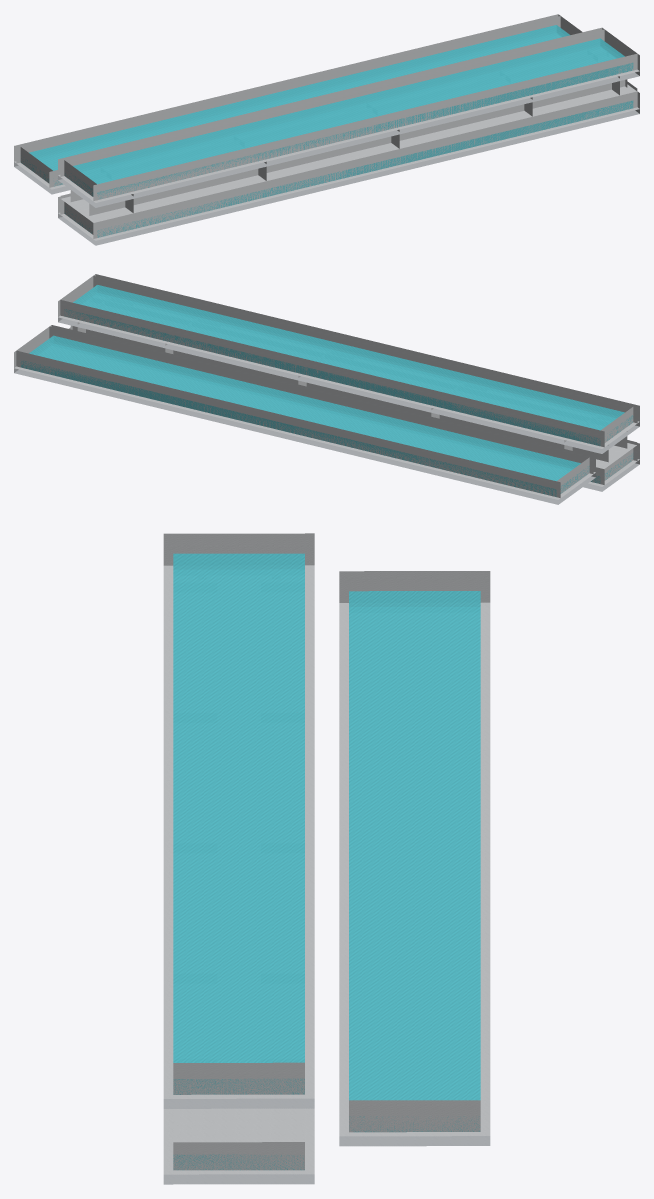
The model's file is qishi-z4-pool.glb.
3 renders of one model, top to bottom at view 1: azimuth 30°, elevation 25°; view 2: azimuth 150°, elevation 25°; view 3: azimuth 270°, elevation 25°, orthographic. The views are drawn at different scales.
Visible parts, largest first — view 1: concrete_pool, poolWater_pool, concreteDark_pool; view 2: concrete_pool, poolWater_pool, concreteDark_pool; view 3: poolWater_pool, concrete_pool, concreteDark_pool.
Boxes of the visible parts, x1,y1,x2,y2 form: concrete_pool: (14,14,639,240); poolWater_pool: (21,25,633,237); concreteDark_pool: (14,71,639,245); concrete_pool: (14,274,639,499); poolWater_pool: (20,285,633,496); concreteDark_pool: (14,317,639,504); poolWater_pool: (173,553,480,1170); concrete_pool: (163,533,490,1174); concreteDark_pool: (163,1098,490,1184).
Bounding box in the file's own units: 286 × 30.1 × 74.4.
Materials: 3 (3 with a texture image).
